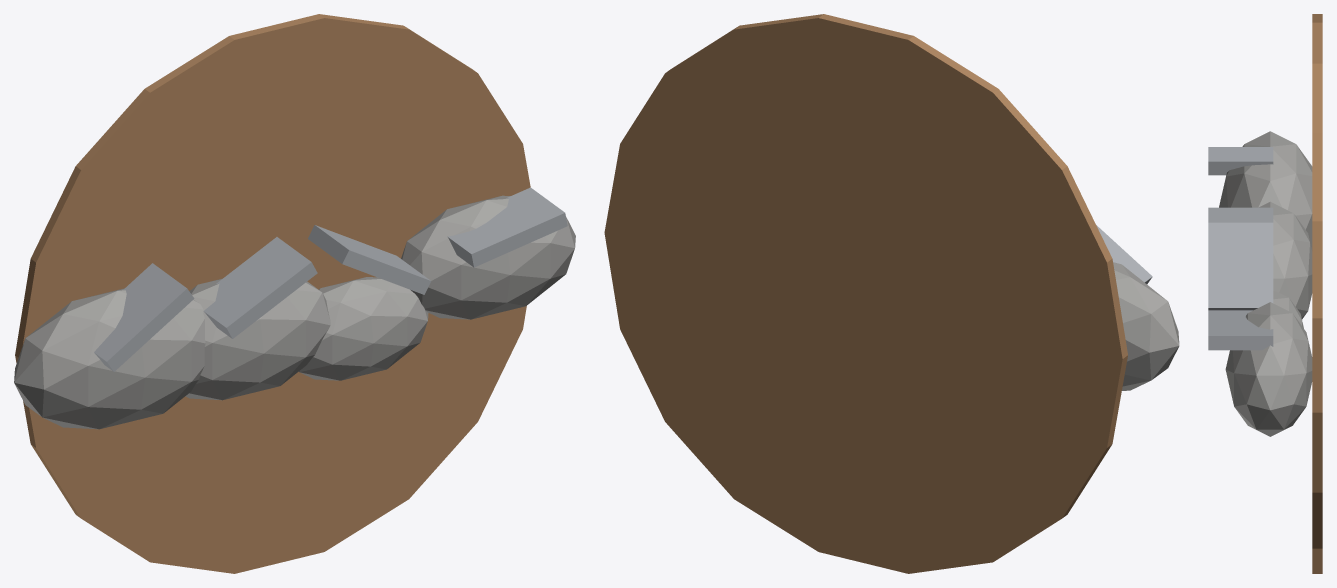
Rendered from 03_ambient_object_cluster.glb.
The picture shows the model from 3 angles, left to right: view 1: azimuth 30°, elevation 25°; view 2: azimuth 150°, elevation 25°; view 3: azimuth 270°, elevation 25°; orthographic projection. The views are drawn at different scales.
Visible parts, largest first — view 1: scatter_base, scrap_rock_0, scrap_rock_3, scrap_rock_1, scrap_rock_2, scrap_plate_1, scrap_plate_0, scrap_plate_3, scrap_plate_2; view 2: scatter_base, scrap_rock_0, scrap_plate_0; view 3: scrap_rock_3, scatter_base, scrap_plate_2, scrap_rock_0, scrap_rock_1, scrap_plate_3, scrap_plate_0, scrap_plate_1, scrap_rock_2.
Part boxes in pixels (x1,y1,x2,y2): scatter_base: (15,14,530,573); scrap_rock_0: (14,288,205,429); scrap_rock_3: (401,195,575,319); scrap_rock_1: (185,278,330,400); scrap_rock_2: (298,277,428,380); scrap_plate_1: (203,237,317,338); scrap_plate_0: (94,263,194,371); scrap_plate_3: (447,187,567,267); scrap_plate_2: (308,225,431,294); scatter_base: (604,14,1127,573); scrap_rock_0: (1113,262,1179,390); scrap_plate_0: (1096,225,1152,284); scrap_rock_3: (1225,302,1312,436); scatter_base: (1312,14,1322,573); scrap_plate_2: (1208,222,1273,310); scrap_rock_0: (1219,131,1312,250); scrap_rock_1: (1259,201,1312,319); scrap_plate_3: (1208,310,1273,350); scrap_plate_0: (1208,147,1273,175); scrap_plate_1: (1208,207,1273,222); scrap_rock_2: (1273,291,1303,328).
Bounding box in the file's own units: 2.06 × 1.87 × 0.3875.
